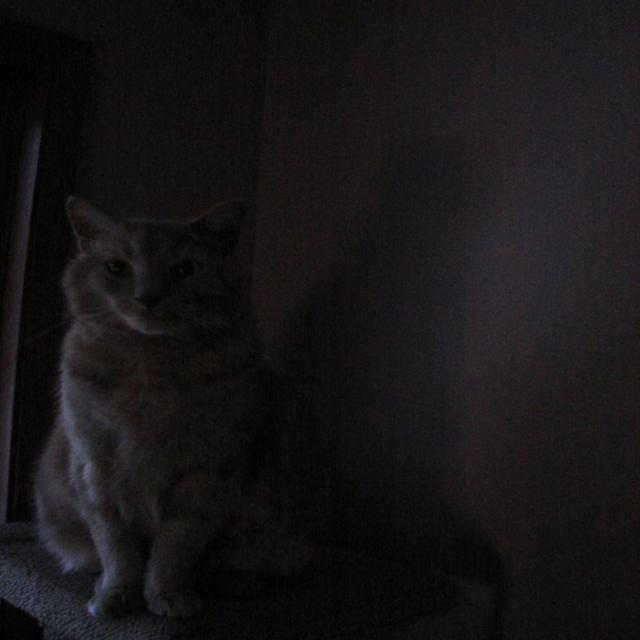Cat: (43, 187, 335, 616)
